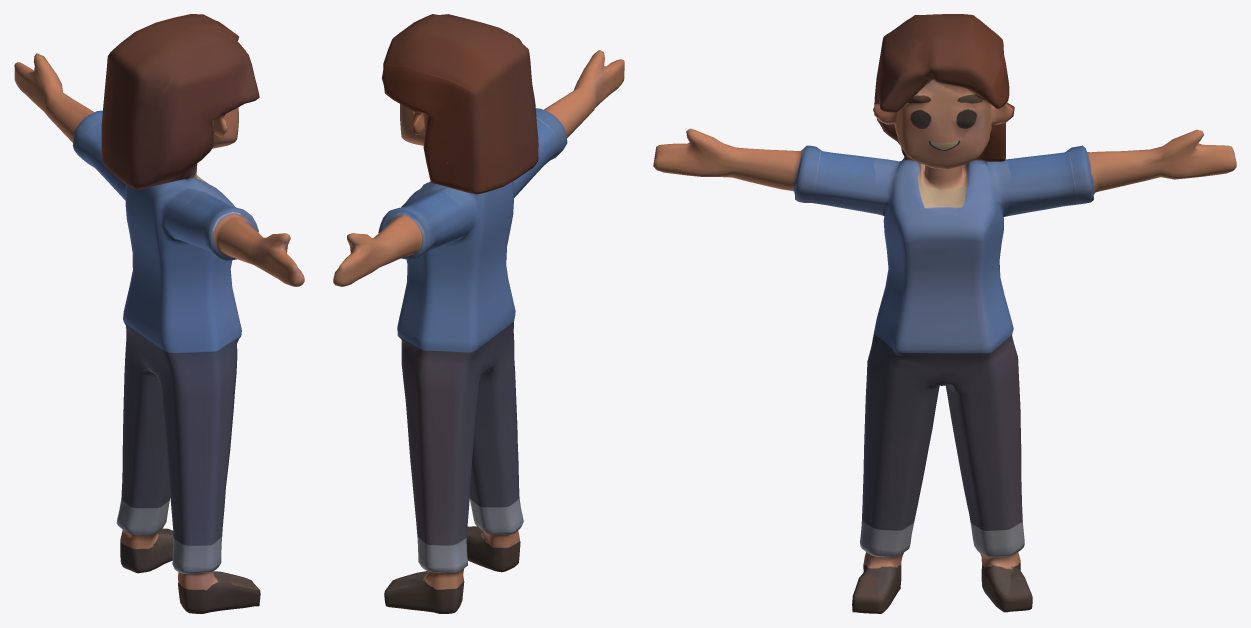
Rendered from SM_Chr_HumanCitizen_02.glb.
3 renders of one model, left to right at view 1: azimuth 30°, elevation 25°; view 2: azimuth 150°, elevation 25°; view 3: azimuth 270°, elevation 25°, orthographic. The views are drawn at different scales.
Parts seen in each view (by area): view 1: tripo_node_ffc46abf; view 2: tripo_node_ffc46abf; view 3: tripo_node_ffc46abf.
Boxes of the visible parts, <box> form: tripo_node_ffc46abf: <box>14,14,304,613</box>; tripo_node_ffc46abf: <box>333,14,624,613</box>; tripo_node_ffc46abf: <box>653,14,1236,613</box>.
Bounding box in the file's own units: 21.94 × 99.97 × 92.4.
1 material, 1 textured.
